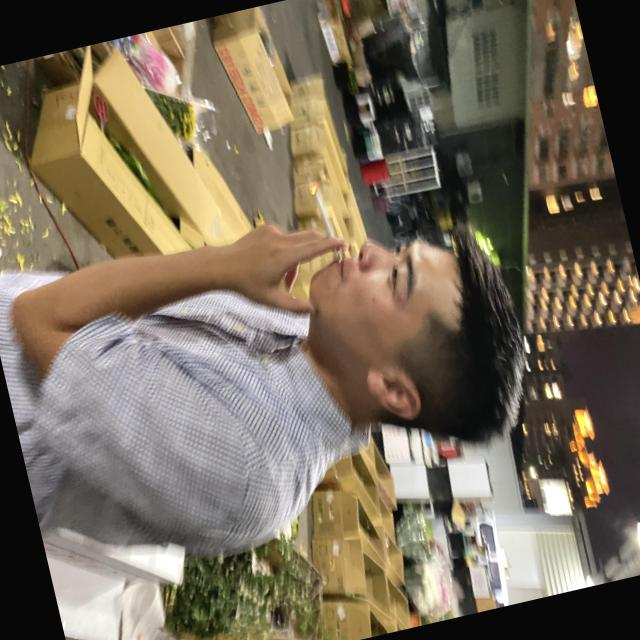cigarette: (294, 172, 353, 272)
